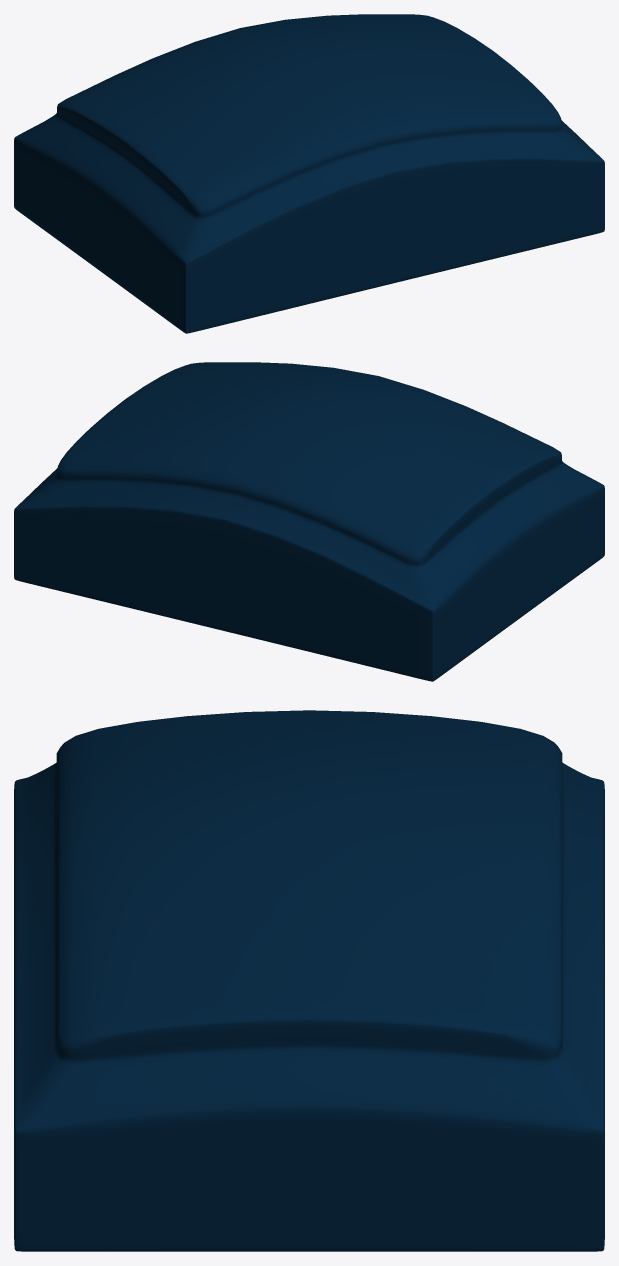
File: maxxair.glb
3 views of the same model, one above another, from view 1: azimuth 30°, elevation 25°; view 2: azimuth 150°, elevation 25°; view 3: azimuth 270°, elevation 25° (orthographic). The views are drawn at different scales.
Parts seen in each view (by area): view 1: pCube1; view 2: pCube1; view 3: pCube1.
Boxes of the visible parts, <box> form: pCube1: <box>14,14,604,333</box>; pCube1: <box>14,362,604,681</box>; pCube1: <box>14,710,604,1251</box>.
Bounding box in the file's own units: 0.6116 × 0.2244 × 0.4349.
